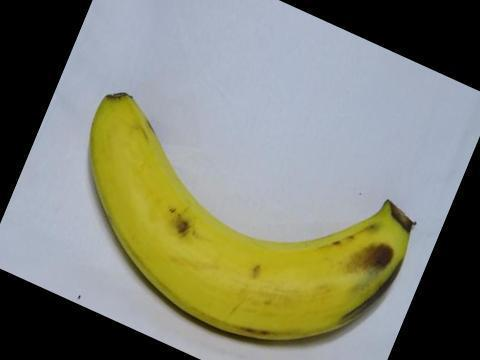freshripe: (85, 82, 422, 357)
